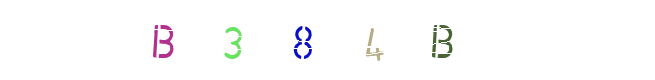3: (263, 0, 343, 80)
4: (288, 0, 368, 80)
8: (272, 0, 352, 80)
B: (130, 0, 210, 80), (402, 0, 482, 80)
